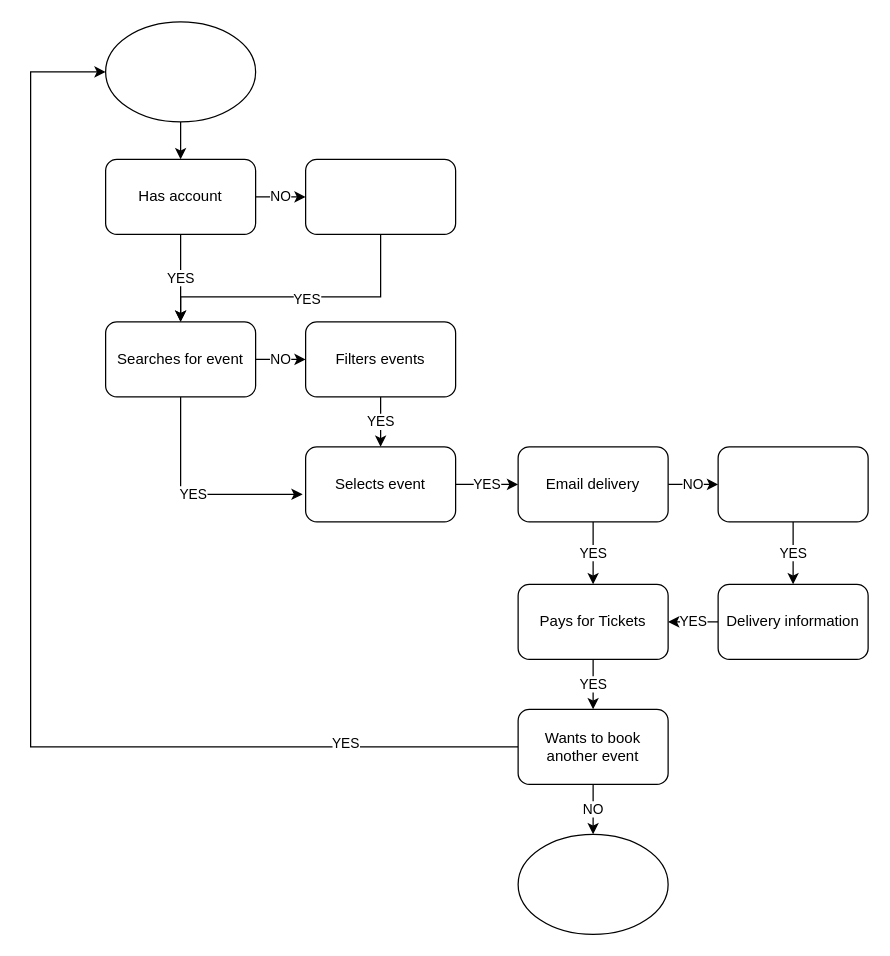
This 890x956 diagram has some shape labels left out. Here are the shapes that lost their labels. From the top down, the box of each, then its label:
(104, 21, 256, 122): Enters Front Page
(304, 158, 456, 234): Makes account
(717, 446, 868, 522): Home delivery
(517, 833, 668, 934): End
